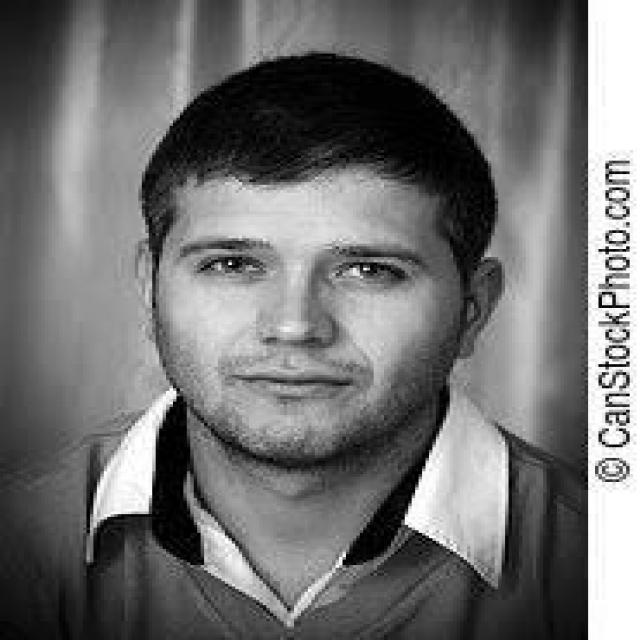person: (56, 45, 554, 638)
